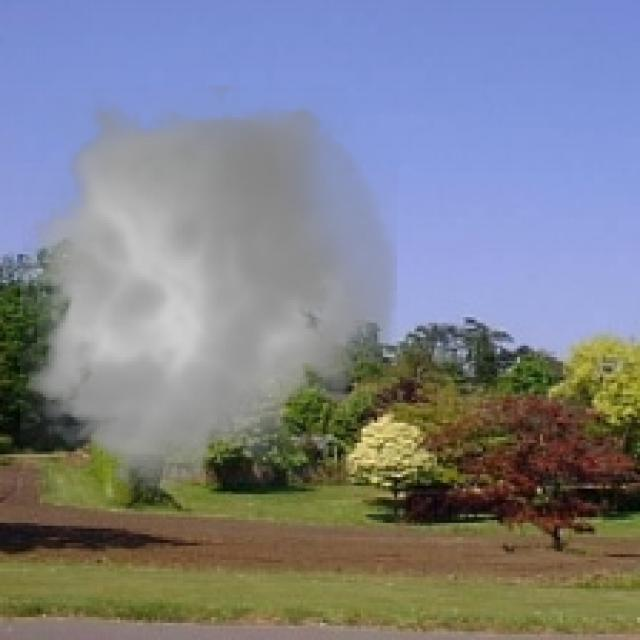smoke: (3, 86, 411, 508)
